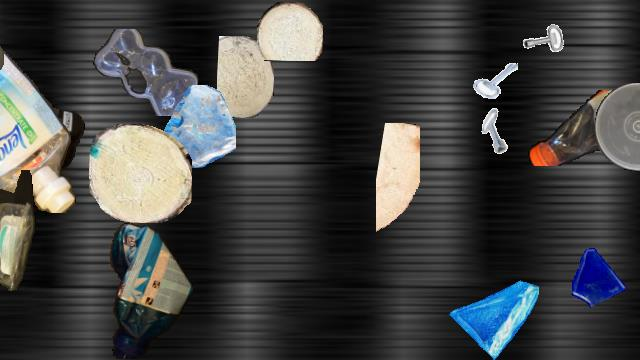glass: (448, 269, 538, 359), (153, 85, 235, 167), (566, 245, 628, 307)
metal: (511, 2, 567, 58), (474, 108, 520, 154), (473, 59, 517, 103)
plastic: (0, 40, 78, 212), (104, 221, 192, 359), (0, 111, 85, 247), (93, 29, 199, 115), (526, 90, 640, 166), (0, 170, 36, 292), (595, 83, 640, 171), (0, 1, 3, 265)
wood: (89, 124, 191, 222), (376, 123, 420, 239), (217, 36, 273, 118), (257, 2, 323, 60)
